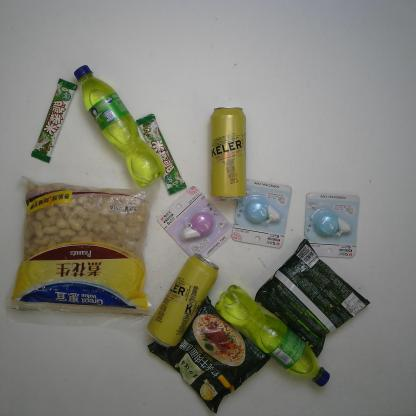Alcohol: (143, 250, 222, 350), (208, 100, 250, 204)
Chocolate: (133, 110, 189, 198), (27, 76, 79, 166)
Dried Food: (3, 173, 161, 331)
Drink: (213, 281, 334, 392), (70, 62, 167, 191)
Instant Noodles: (144, 292, 273, 415), (253, 236, 373, 360)
Stationery: (154, 183, 235, 261), (228, 175, 294, 252), (301, 190, 363, 262)
